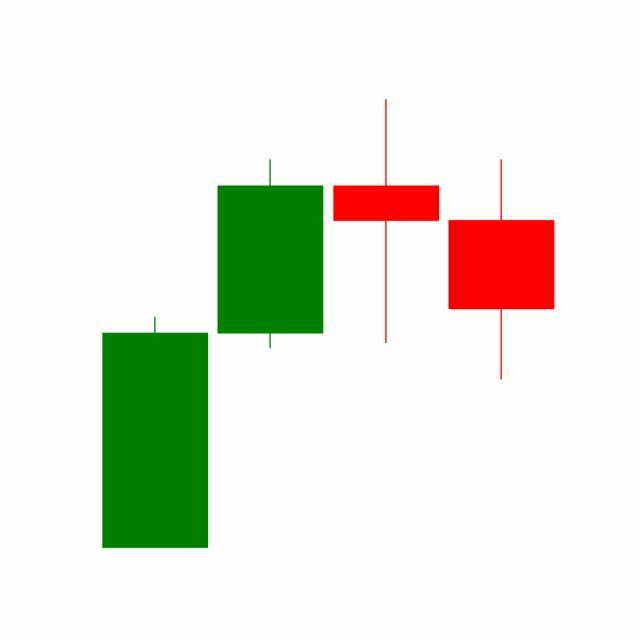Spinning Top: (329, 97, 445, 347)
